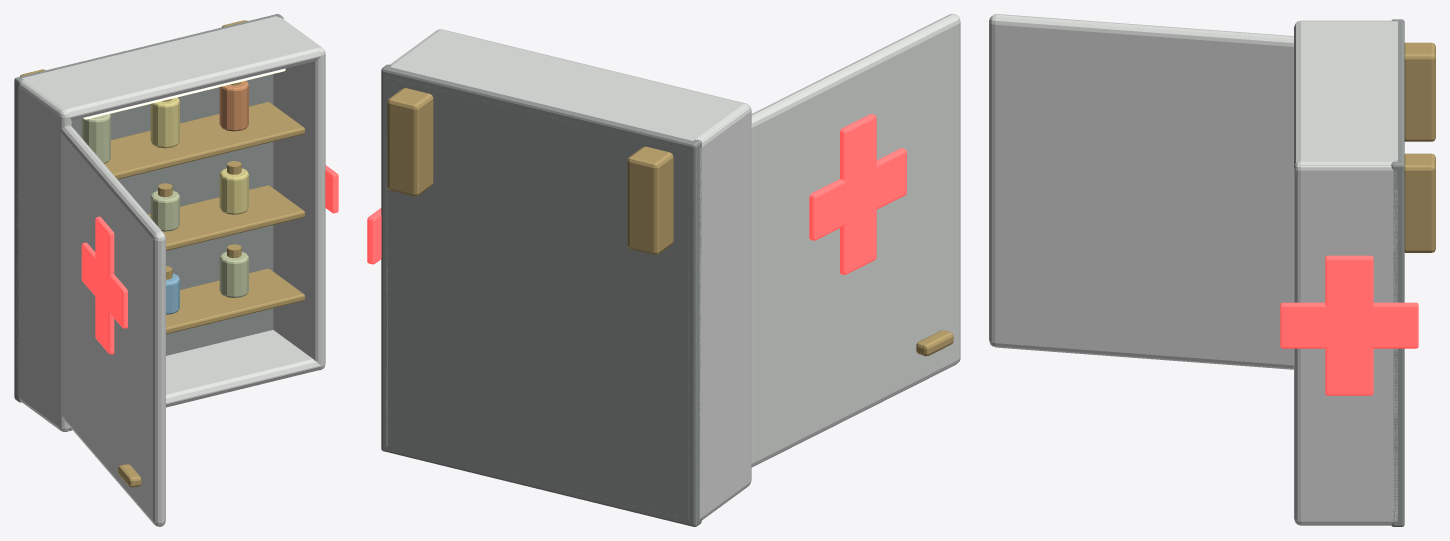
Rendered from medkit.glb.
The picture shows the model from 3 angles, left to right: view 1: azimuth 30°, elevation 25°; view 2: azimuth 150°, elevation 25°; view 3: azimuth 270°, elevation 25°; orthographic projection. The views are drawn at different scales.
Parts seen in each view (by area): view 1: medkit; view 2: medkit; view 3: medkit.
Part boxes in pixels (box(x1,y1,x2,y2)): medkit: box(14, 14, 338, 526); medkit: box(367, 14, 960, 526); medkit: box(989, 14, 1435, 526).
Size of the model in its own units: 0.6048 by 0.58 by 0.646.
